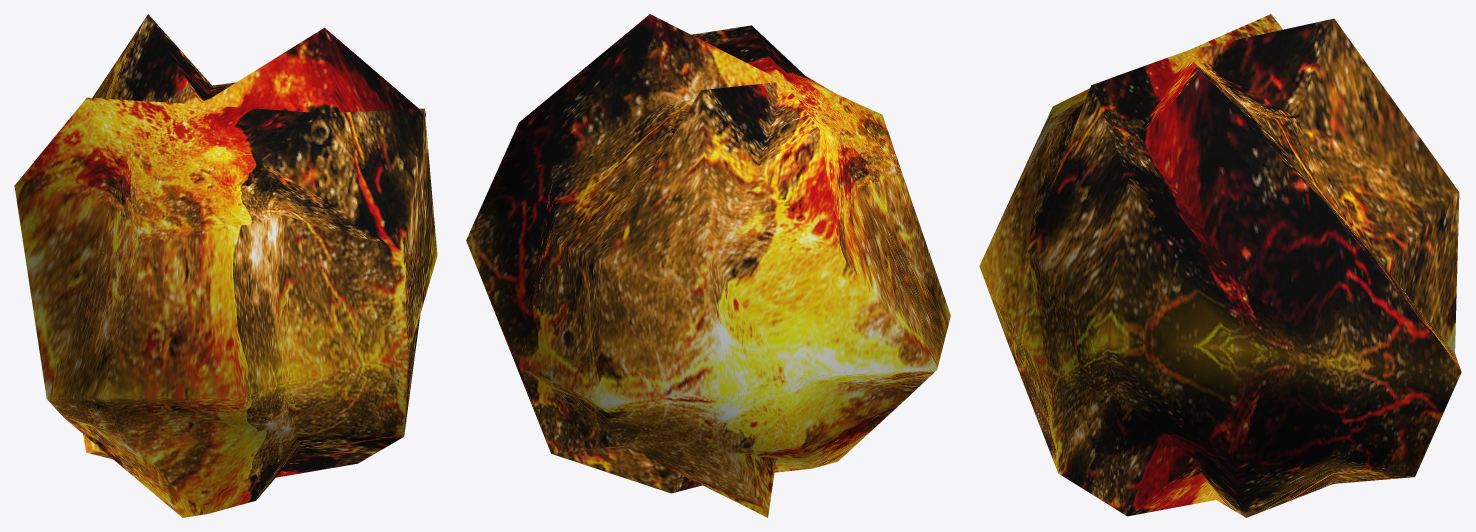
File: Z_shitou_01.FBX
3 views of the same model, side by side, from view 1: azimuth 30°, elevation 25°; view 2: azimuth 150°, elevation 25°; view 3: azimuth 270°, elevation 25° (orthographic). The views are drawn at different scales.
Visible parts, largest first — view 1: Z_shitou_01; view 2: Z_shitou_01; view 3: Z_shitou_01.
Part boxes in pixels (left/top/right/bottom): Z_shitou_01: left=14, top=14, right=437, bottom=517; Z_shitou_01: left=466, top=14, right=950, bottom=517; Z_shitou_01: left=979, top=14, right=1461, bottom=517.
Size of the model in its own units: 2.12 by 2.21 by 2.03.
